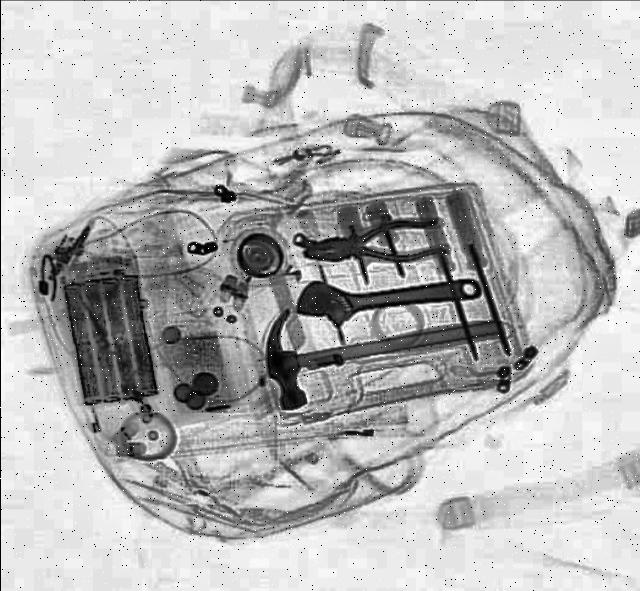Pliers: (302, 214, 452, 272)
Wrench: (292, 259, 483, 329)
